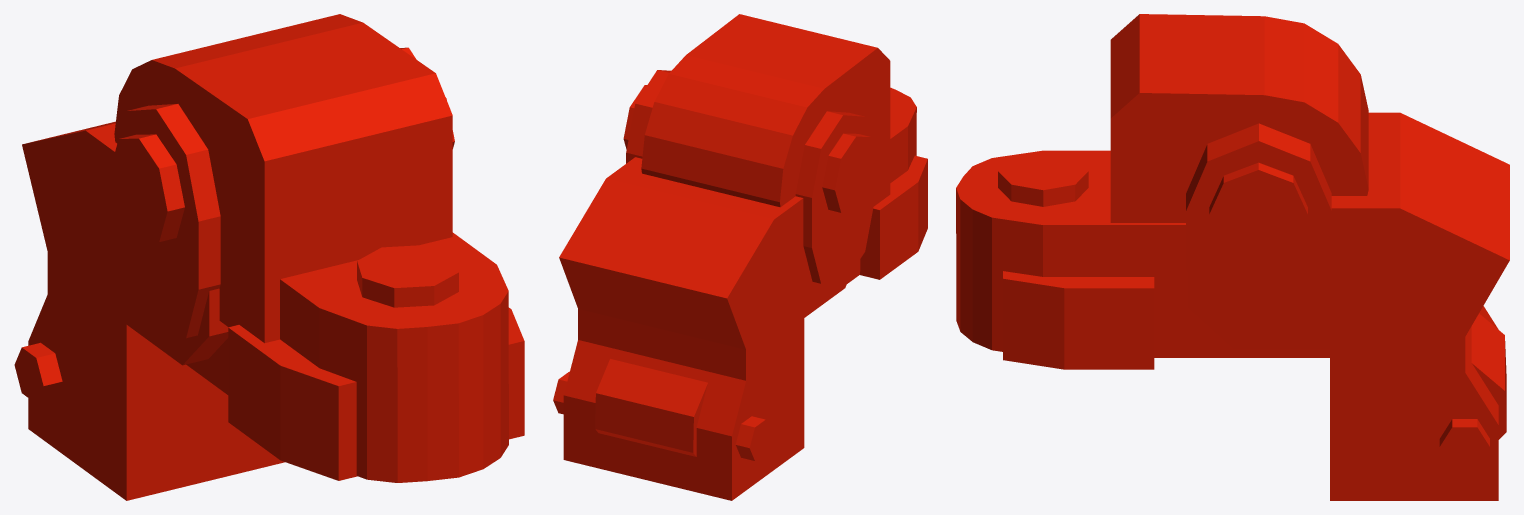
The model's file is env_mechanicalfiller_01_col.fbx.
The picture shows the model from 3 angles, left to right: view 1: azimuth 30°, elevation 25°; view 2: azimuth 150°, elevation 25°; view 3: azimuth 270°, elevation 25°; orthographic projection. The views are drawn at different scales.
Parts seen in each view (by area): view 1: env_undergroundstation_elevator_motor01_col.003, env_undergroundstation_elevator_motor01_col.002, env_undergroundstation_elevator_motor01_col.008, Cube, env_undergroundstation_elevator_motor01_col.004, env_undergroundstation_elevator_motor01_col.006, env_undergroundstation_elevator_motor01_col, env_undergroundstation_elevator_motor01_col.005, Cylinder, env_undergroundstation_elevator_motor01_col.007; view 2: env_undergroundstation_elevator_motor01_col.004, env_undergroundstation_elevator_motor01_col.003, env_undergroundstation_elevator_motor01_col.008, env_undergroundstation_elevator_motor01_col.006, env_undergroundstation_elevator_motor01_col.001, env_undergroundstation_elevator_motor01_col.007, Cube, env_undergroundstation_elevator_motor01_col, env_undergroundstation_elevator_motor01_col.002, Cylinder; view 3: env_undergroundstation_elevator_motor01_col.003, env_undergroundstation_elevator_motor01_col.004, env_undergroundstation_elevator_motor01_col.002, env_undergroundstation_elevator_motor01_col.008, env_undergroundstation_elevator_motor01_col.006, Cube, env_undergroundstation_elevator_motor01_col, env_undergroundstation_elevator_motor01_col.005, env_undergroundstation_elevator_motor01_col.001, env_undergroundstation_elevator_motor01_col.007, Cylinder.
Part boxes in pixels (x1=…): env_undergroundstation_elevator_motor01_col.003: x1=114, y1=14, x2=452, y2=343; env_undergroundstation_elevator_motor01_col.002: x1=186, y1=232, x2=508, y2=482; env_undergroundstation_elevator_motor01_col.008: x1=28, y1=294, x2=284, y2=500; Cube: x1=228, y1=307, x2=524, y2=480; env_undergroundstation_elevator_motor01_col.004: x1=22, y1=121, x2=228, y2=365; env_undergroundstation_elevator_motor01_col.006: x1=113, y1=47, x2=416, y2=340; env_undergroundstation_elevator_motor01_col: x1=110, y1=97, x2=454, y2=242; env_undergroundstation_elevator_motor01_col.005: x1=357, y1=245, x2=458, y2=307; Cylinder: x1=14, y1=342, x2=62, y2=403; env_undergroundstation_elevator_motor01_col.007: x1=47, y1=252, x2=125, y2=323; env_undergroundstation_elevator_motor01_col.004: x1=559, y1=157, x2=850, y2=349; env_undergroundstation_elevator_motor01_col.003: x1=641, y1=14, x2=890, y2=207; env_undergroundstation_elevator_motor01_col.008: x1=563, y1=318, x2=804, y2=500; env_undergroundstation_elevator_motor01_col.006: x1=626, y1=70, x2=874, y2=285; env_undergroundstation_elevator_motor01_col.001: x1=595, y1=359, x2=707, y2=456; env_undergroundstation_elevator_motor01_col.007: x1=578, y1=309, x2=803, y2=380; Cube: x1=860, y1=155, x2=927, y2=279; env_undergroundstation_elevator_motor01_col: x1=623, y1=85, x2=877, y2=213; env_undergroundstation_elevator_motor01_col.002: x1=847, y1=87, x2=916, y2=283; Cylinder: x1=553, y1=371, x2=770, y2=460; env_undergroundstation_elevator_motor01_col.003: x1=1110, y1=14, x2=1368, y2=222; env_undergroundstation_elevator_motor01_col.004: x1=1188, y1=112, x2=1509, y2=349; env_undergroundstation_elevator_motor01_col.002: x1=956, y1=150, x2=1329, y2=357; env_undergroundstation_elevator_motor01_col.008: x1=1330, y1=306, x2=1498, y2=500; env_undergroundstation_elevator_motor01_col.006: x1=1186, y1=123, x2=1331, y2=339; Cube: x1=1003, y1=271, x2=1154, y2=369; env_undergroundstation_elevator_motor01_col: x1=1209, y1=162, x2=1307, y2=259; env_undergroundstation_elevator_motor01_col.005: x1=998, y1=152, x2=1088, y2=206; env_undergroundstation_elevator_motor01_col.001: x1=1471, y1=313, x2=1506, y2=439; env_undergroundstation_elevator_motor01_col.007: x1=1331, y1=336, x2=1465, y2=372; Cylinder: x1=1439, y1=419, x2=1489, y2=466.
Bounding box in the file's own units: 16.63 × 25.46 × 32.3.
